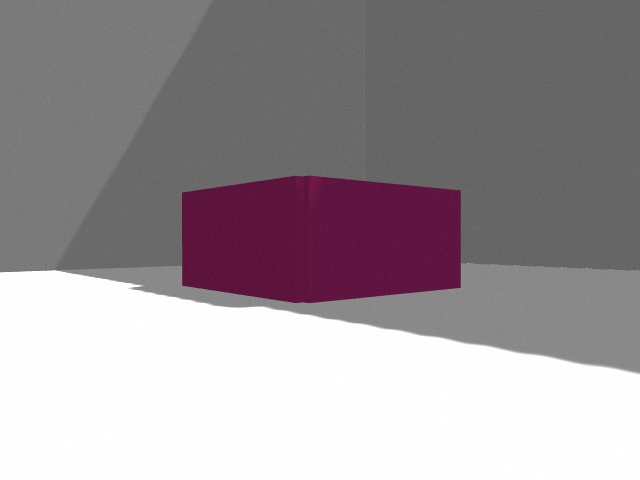red_drop_zone: (182, 176, 461, 303)
